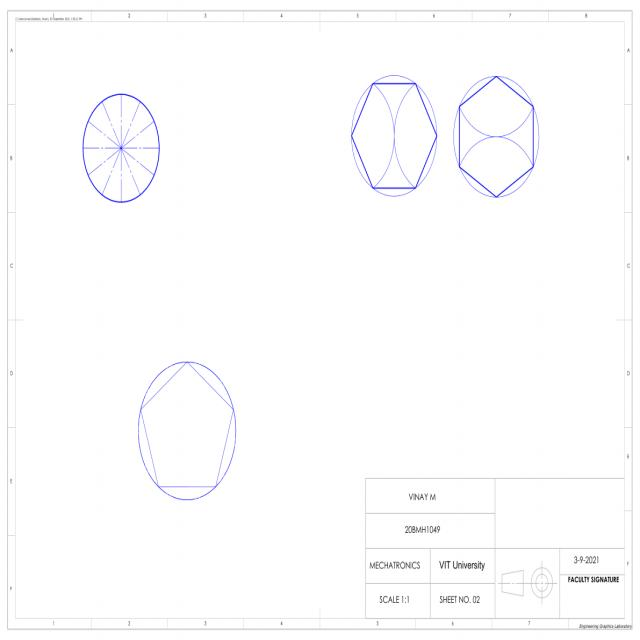Drawings: (131, 352, 241, 505), (447, 67, 545, 206), (346, 66, 444, 203), (78, 84, 166, 212)
